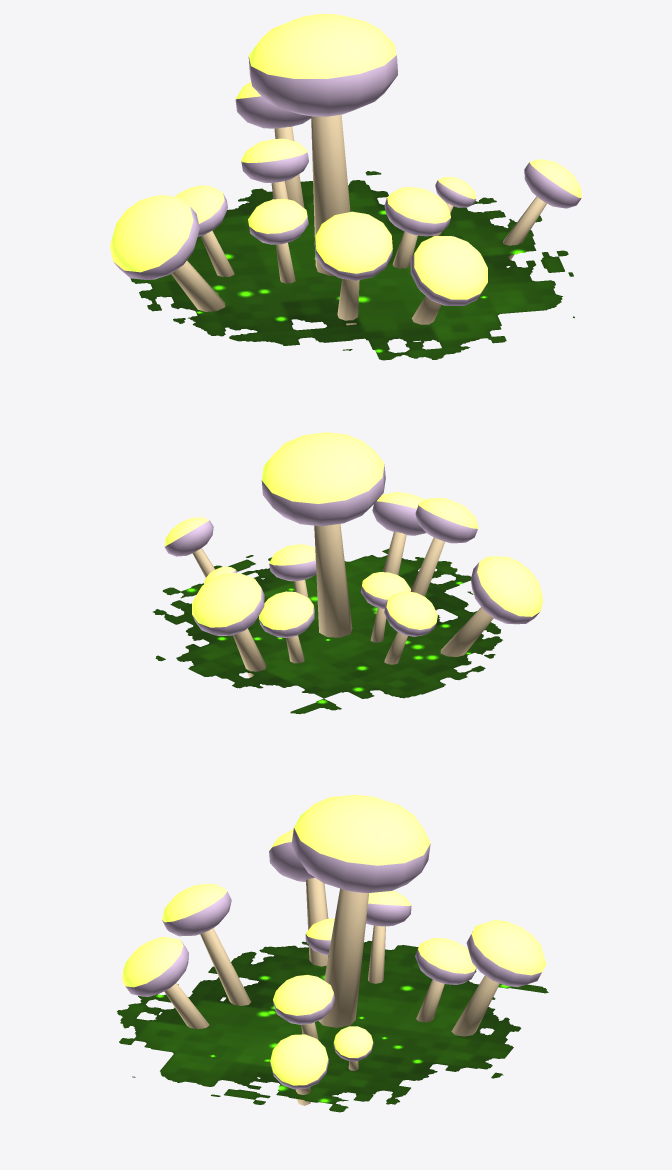
Rendered from pilz_bueschel.glb.
3 views of the same model, one above another, from view 1: azimuth 30°, elevation 25°; view 2: azimuth 150°, elevation 25°; view 3: azimuth 270°, elevation 25° (orthographic). The views are drawn at different scales.
Visible parts, largest first — view 1: pilz_bueschel; view 2: pilz_bueschel; view 3: pilz_bueschel.
Part boxes in pixels (x1,y1,x2,y2): pilz_bueschel: (110,14,581,360); pilz_bueschel: (153,432,542,714); pilz_bueschel: (117,795,548,1112).
Bounding box in the file's own units: 1.91 × 0.7677 × 1.91.
Materials: 4 (1 with a texture image).
